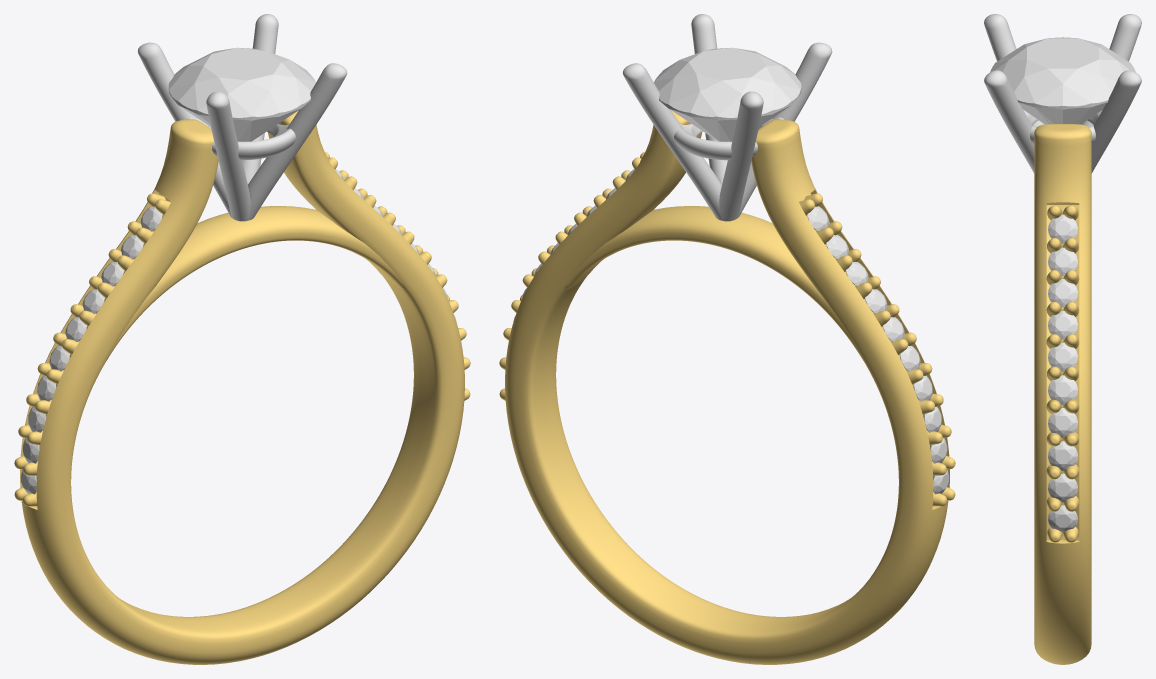
Rendered from HalfEternity.glb.
3 renders of one model, left to right at view 1: azimuth 30°, elevation 25°; view 2: azimuth 150°, elevation 25°; view 3: azimuth 270°, elevation 25°, orthographic.
Visible parts, largest first — view 1: half etern shank, head, diamond; view 2: half etern shank, head, diamond; view 3: half etern shank, diamond, head, diamonds-etern shank.013, diamonds-etern shank.014, diamonds-etern shank.012, diamonds-etern shank.015, diamonds-etern shank.016, diamonds-etern shank.019, diamonds-etern shank.011, diamonds-etern shank.017, diamonds-etern shank.018 (+1 smaller).
Boxes of the visible parts, x1,y1,x2,y2 form: half etern shank: (14,110,470,664); head: (137,14,347,221); diamond: (168,47,315,141); half etern shank: (499,110,955,664); head: (622,14,832,221); diamond: (654,47,801,141); half etern shank: (1034,124,1091,664); diamond: (990,37,1135,124); head: (984,14,1141,173); diamonds-etern shank.013: (1048,408,1077,437); diamonds-etern shank.014: (1048,375,1077,404); diamonds-etern shank.012: (1048,441,1077,470); diamonds-etern shank.015: (1048,342,1077,371); diamonds-etern shank.016: (1048,310,1077,339); diamonds-etern shank.019: (1048,214,1077,243); diamonds-etern shank.011: (1048,473,1077,502); diamonds-etern shank.017: (1048,279,1077,307); diamonds-etern shank.018: (1048,247,1077,276).
Size of the model in its own units: 22.26 by 28.76 by 6.88.
